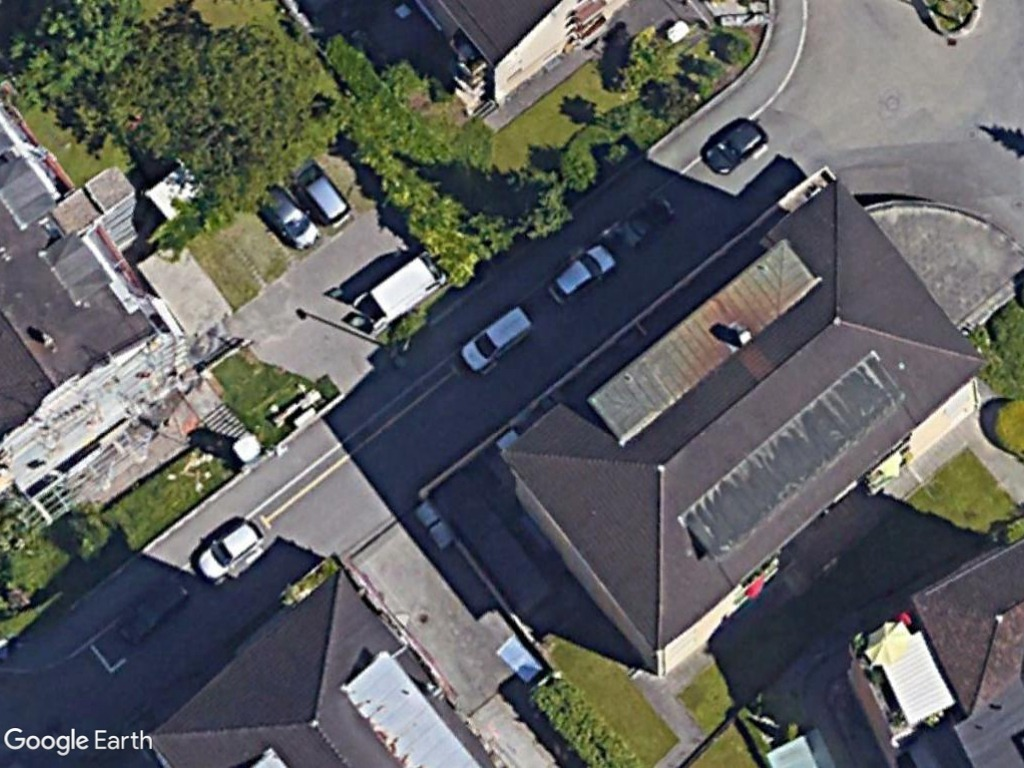car: (545, 241, 619, 307), (196, 516, 267, 580)
van: (455, 303, 532, 377)
